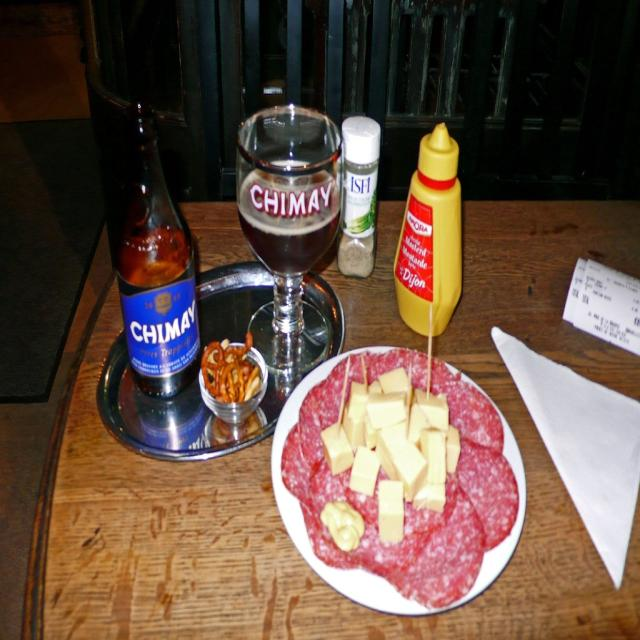chimay: (122, 280, 203, 375), (248, 177, 338, 222)
